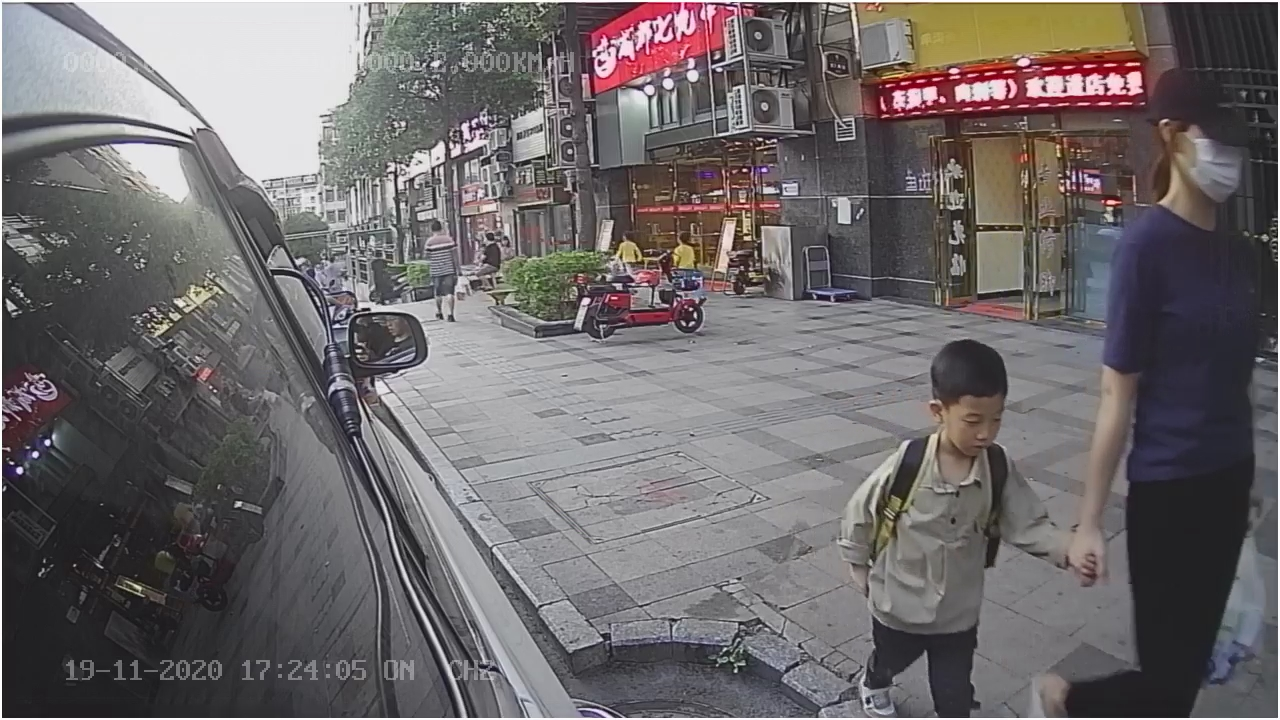person: (834, 333, 1084, 713)
